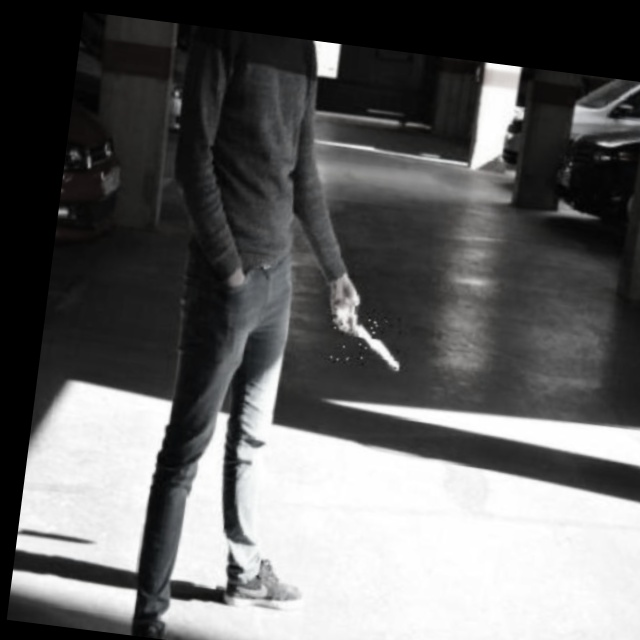Sharp-Object: (328, 299, 407, 372)
